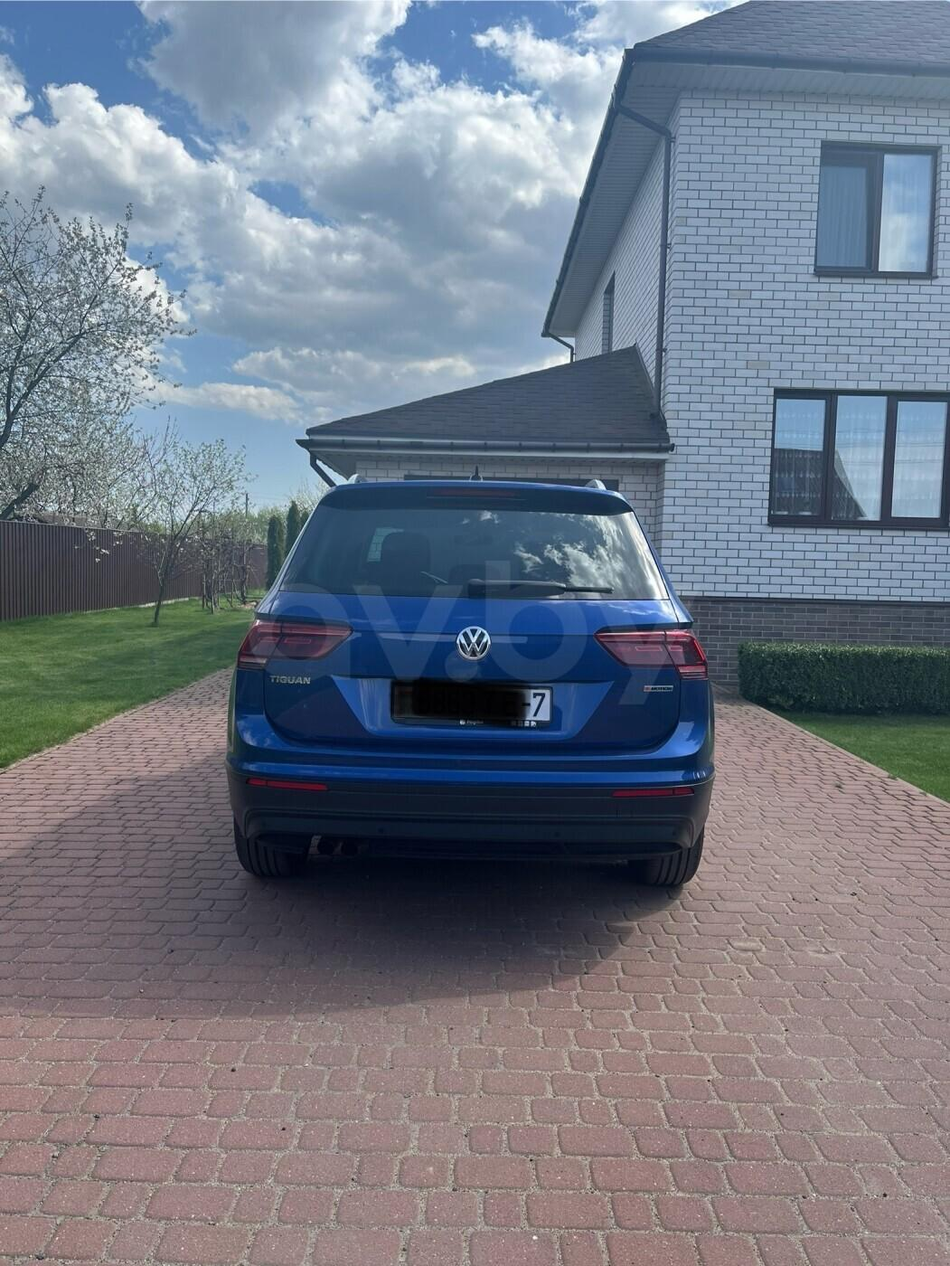Tiguan_2016-2021: (228, 472, 718, 897)
